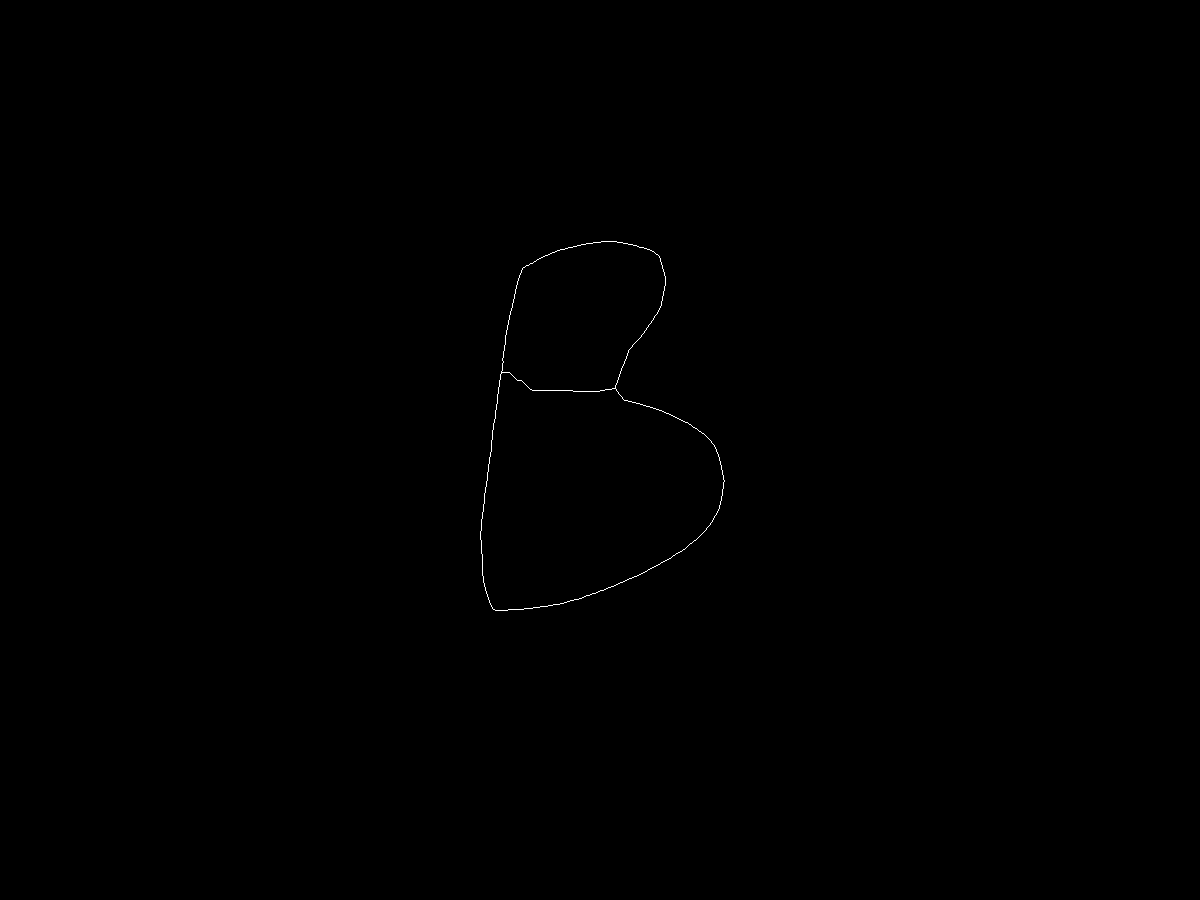dian1: (517, 254, 535, 272)
dian2: (491, 364, 508, 381)
dian3: (482, 591, 502, 611)
dian4: (609, 382, 628, 401)
